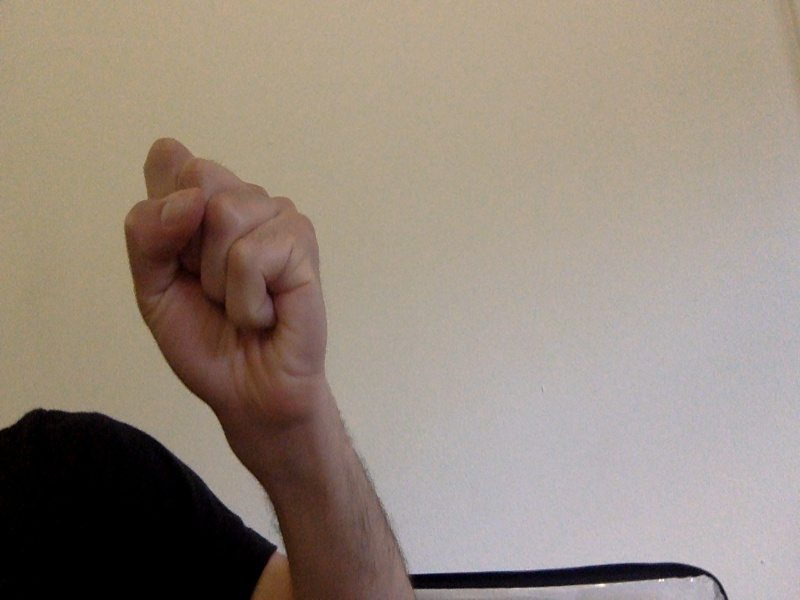0-hand: (126, 138, 329, 416)
